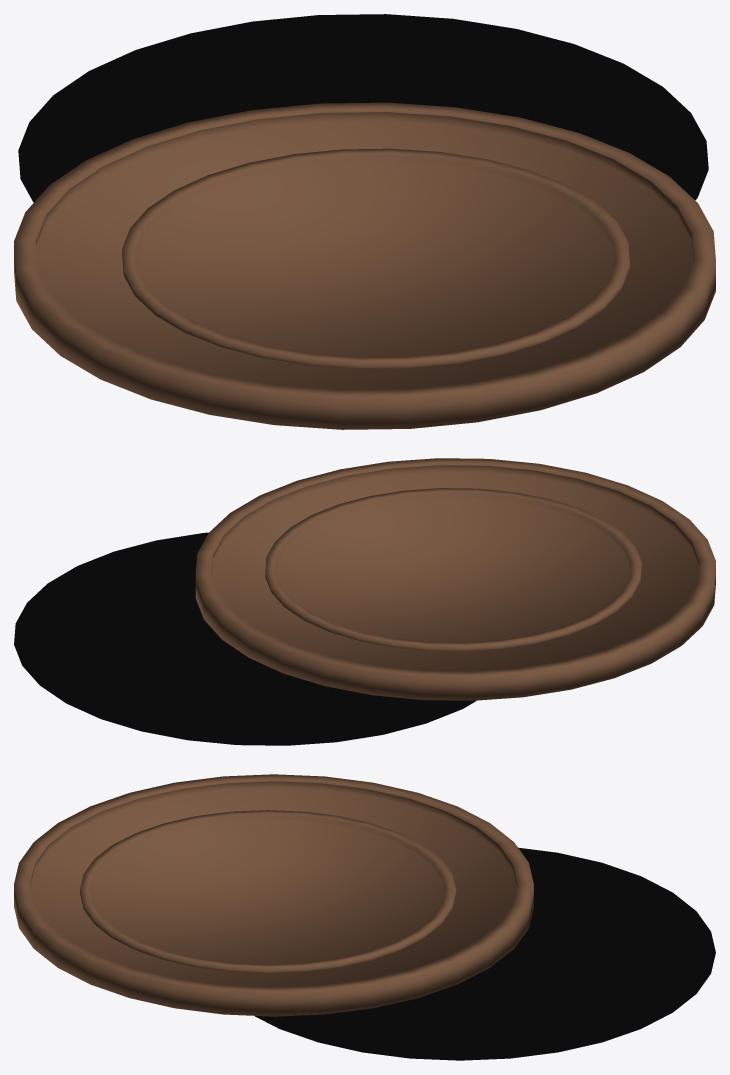
Rendered from manhole.fbx.
3 renders of one model, top to bottom at view 1: azimuth 30°, elevation 25°; view 2: azimuth 150°, elevation 25°; view 3: azimuth 270°, elevation 25°, orthographic. The views are drawn at different scales.
Visible parts, largest first — view 1: Cylinder, Circle; view 2: Cylinder, Circle; view 3: Cylinder, Circle.
Boxes of the visible parts, box(x1,y1,x2,y2) form: Cylinder: box(14, 102, 715, 429); Circle: box(18, 14, 708, 202); Cylinder: box(195, 458, 715, 700); Circle: box(14, 532, 476, 745); Cylinder: box(14, 774, 533, 1016); Circle: box(255, 847, 715, 1060).
Bounding box in the file's own units: 144 × 6.02 × 163.
